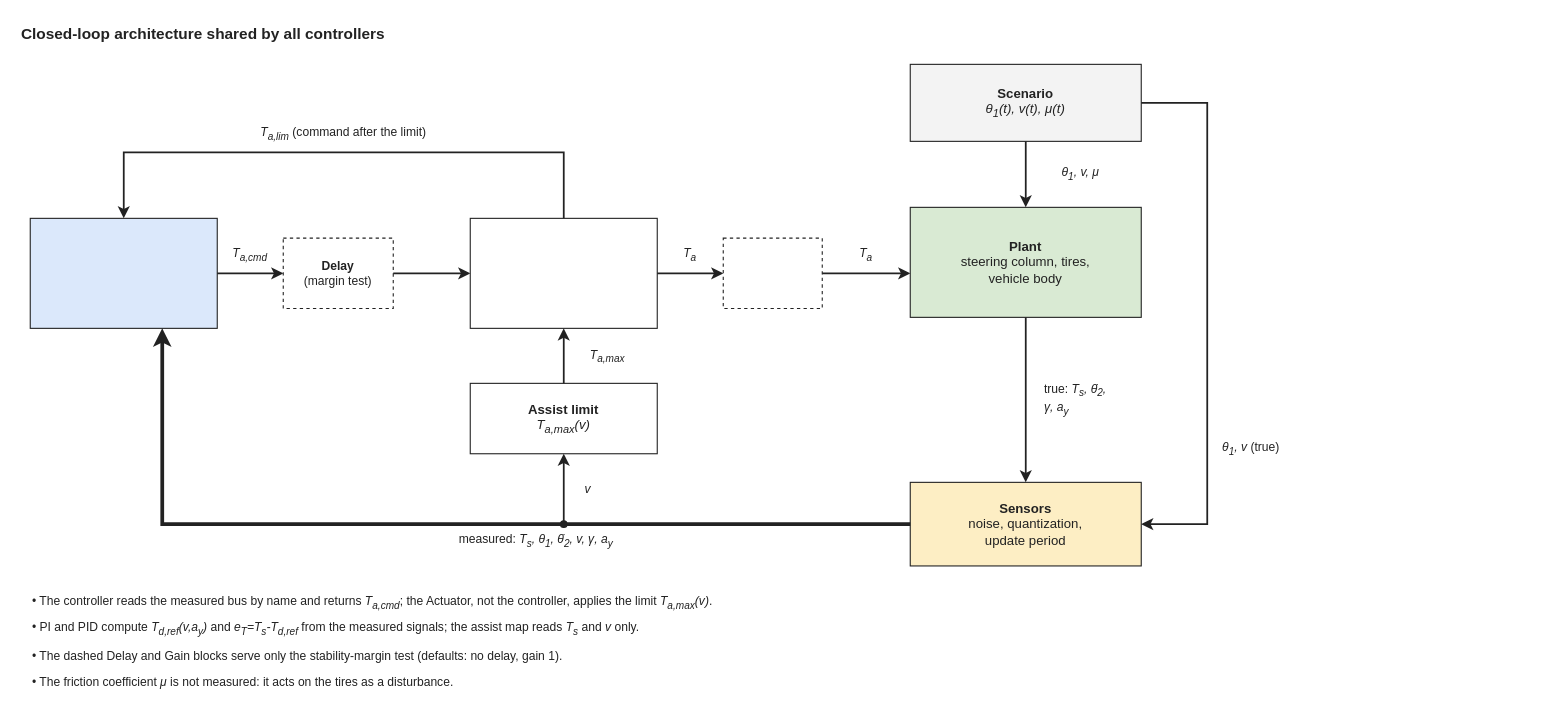
The diagram is 1566 pixels wide and 713 high, and some of its shapes have lost their labels. Each missing label, with the centre of its shape:
"Actuator bound ± T a,max (v) motor lag G m (s)" goes at [563,272].
"Controller Map, PI, PID 1 ms sample" goes at [123,272].
"Gain (margin test)" goes at [772,273].
